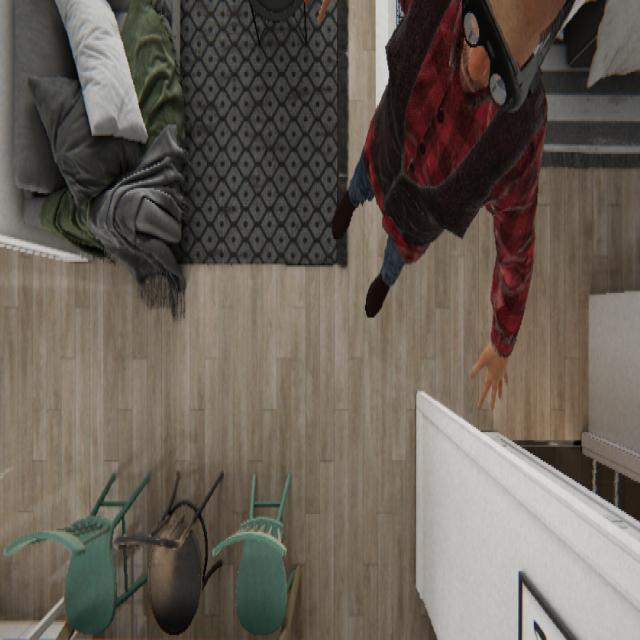Human: (329, 0, 593, 411)
